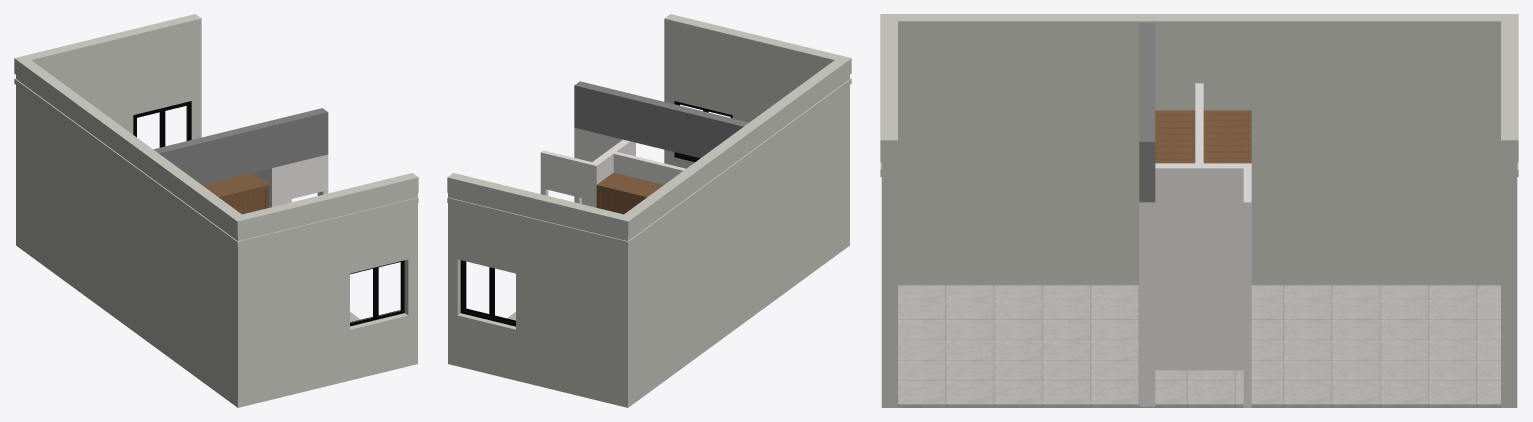
Rendered from CRECER.glb.
3 views of the same model, side by side, from view 1: azimuth 30°, elevation 25°; view 2: azimuth 150°, elevation 25°; view 3: azimuth 270°, elevation 25° (orthographic). The views are drawn at different scales.
Visible parts, largest first — view 1: Diferencia (×2), group_2, Dormant_haut_2; view 2: Diferencia (×2), group_2, Dormant_haut_2; view 3: Diferencia (×2), group_1, group_2.
Boxes of the visible parts, left/top/right/bottom form: Diferencia (×2): left=14, top=14, right=418, bottom=407; group_2: left=202, top=173, right=269, bottom=214; Dormant_haut_2: left=133, top=101, right=404, bottom=326; Diferencia (×2): left=447, top=14, right=851, bottom=407; group_2: left=596, top=172, right=663, bottom=214; Dormant_haut_2: left=460, top=101, right=732, bottom=326; Diferencia (×2): left=880, top=14, right=1518, bottom=407; group_1: left=898, top=285, right=1500, bottom=407; group_2: left=1155, top=110, right=1251, bottom=163.
Size of what is drawn, in the model's own units: 3.72 by 3.67 by 7.94.
9 materials, 2 textured.
